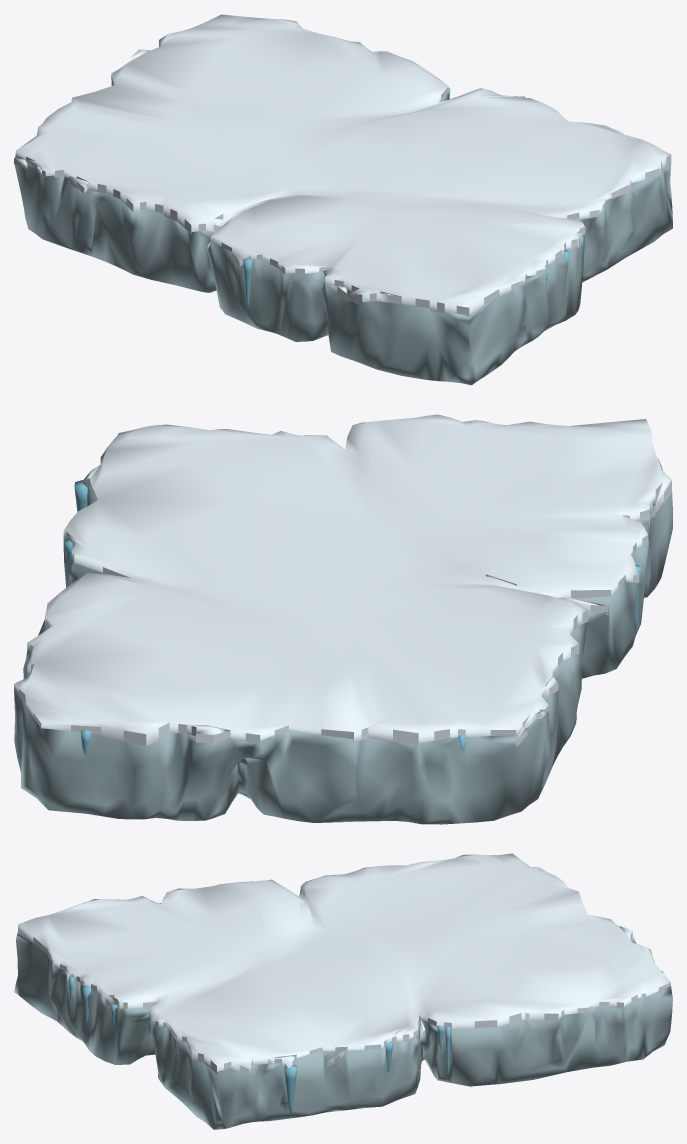
The model's file is BossRoom_IcePlatform.fbx.
3 views of the same model, one above another, from view 1: azimuth 30°, elevation 25°; view 2: azimuth 150°, elevation 25°; view 3: azimuth 270°, elevation 25° (orthographic). The views are drawn at different scales.
Parts seen in each view (by area): view 1: BossRoom_IcePlatform_LOD0; view 2: BossRoom_IcePlatform_LOD0; view 3: BossRoom_IcePlatform_LOD0.
Part boxes in pixels (x1,y1,x2,y2): BossRoom_IcePlatform_LOD0: [14, 14, 672, 385]; BossRoom_IcePlatform_LOD0: [14, 414, 672, 824]; BossRoom_IcePlatform_LOD0: [14, 853, 672, 1129].
Size of what is drawn, in the model's own units: 4.57 by 0.7816 by 5.99.
